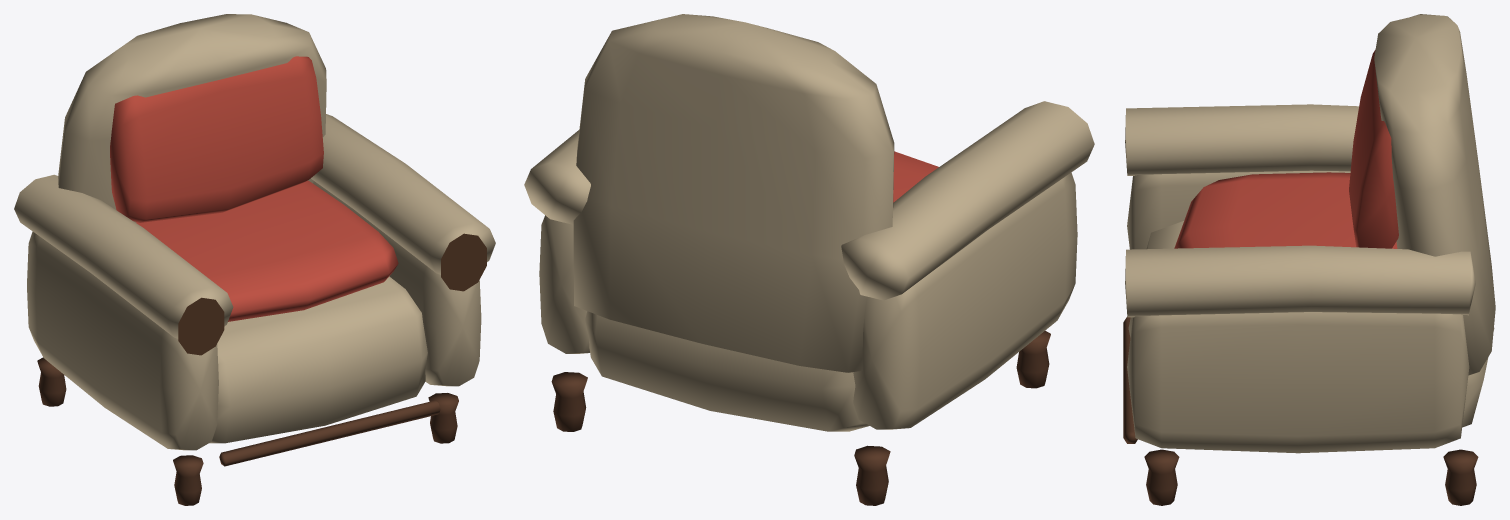
The model's file is prop_armchair_cozy_a.glb.
3 views of the same model, side by side, from view 1: azimuth 30°, elevation 25°; view 2: azimuth 150°, elevation 25°; view 3: azimuth 270°, elevation 25° (orthographic). The views are drawn at different scales.
Visible parts, largest first — view 1: prop_armchair_cozy_a_mesh; view 2: prop_armchair_cozy_a_mesh; view 3: prop_armchair_cozy_a_mesh.
Boxes of the visible parts, x1,y1,x2,y2 form: prop_armchair_cozy_a_mesh: (14, 14, 495, 505); prop_armchair_cozy_a_mesh: (524, 14, 1094, 505); prop_armchair_cozy_a_mesh: (1123, 14, 1495, 505).
Bounding box in the file's own units: 0.95 × 0.9897 × 0.8473.
